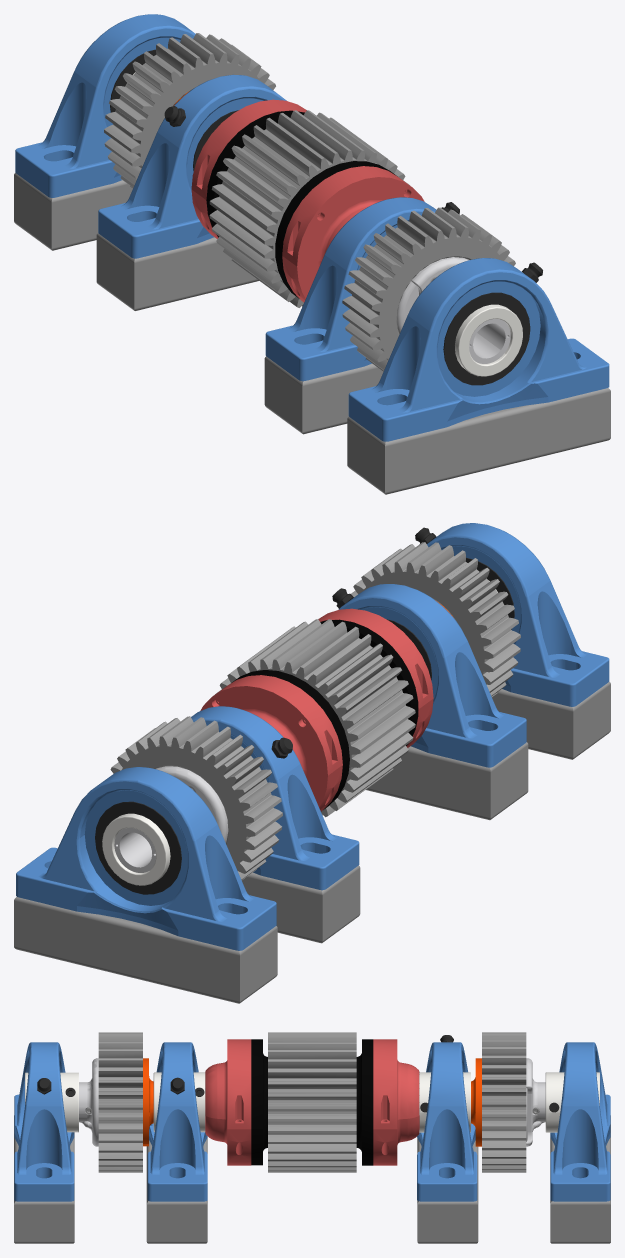
Rendered from geared-module.e113c582.glb.
The picture shows the model from 3 angles, top to bottom: view 1: azimuth 30°, elevation 25°; view 2: azimuth 150°, elevation 25°; view 3: azimuth 270°, elevation 25°; orthographic projection. The views are drawn at different scales.
Visible parts, largest first — view 1: Casing (2) (×4), Outer Gear (×2), object 243, Middle Gear, Nut Side (×2), object 245, object 244, object 246, cycloid_housing (×2), object 87, black (1), Rotation (1) (+1 smaller); view 2: Casing (2) (×4), Outer Gear (×2), object 246, Middle Gear, Nut Side (×2), object 244, object 245, object 243, cycloid_housing (×2), object 218, black (1), Rotation (1) (+1 smaller); view 3: Casing (2) (×4), Outer Gear (×2), Middle Gear, Nut Side (×2), cycloid_housing (×2), Rotation (1) (×4), object 244, object 245, object 243, Screw Side (×2), object 246, red casing end gear (inner) (×2) (+2 smaller).
Part boxes in pixels (left/top/right/bottom): Casing (2) (×4): left=15, top=14, right=609, bottom=441; Outer Gear (×2): left=104, top=33, right=515, bottom=371; object 243: left=347, top=388, right=610, bottom=494; Middle Gear: left=209, top=110, right=409, bottom=307; Nut Side (×2): left=191, top=99, right=424, bottom=266; object 245: left=96, top=233, right=258, bottom=310; object 244: left=264, top=356, right=383, bottom=434; object 246: left=14, top=173, right=132, bottom=250; cycloid_housing (×2): left=206, top=110, right=397, bottom=298; object 87: left=397, top=257, right=510, bottom=363; black (1): left=443, top=292, right=530, bottom=385; Rotation (1): left=455, top=304, right=522, bottom=376; Casing (2) (×4): left=16, top=523, right=609, bottom=950; Outer Gear (×2): left=110, top=542, right=520, bottom=880; object 246: left=14, top=897, right=277, bottom=1003; Middle Gear: left=215, top=619, right=415, bottom=817; Nut Side (×2): left=200, top=608, right=433, bottom=775; object 244: left=366, top=742, right=528, bottom=820; object 245: left=242, top=865, right=360, bottom=943; object 243: left=492, top=681, right=610, bottom=759; cycloid_housing (×2): left=232, top=619, right=418, bottom=809; object 218: left=114, top=766, right=228, bottom=872; black (1): left=95, top=801, right=181, bottom=894; Rotation (1): left=102, top=813, right=170, bottom=885; Casing (2) (×4): left=14, top=1042, right=610, bottom=1201; Outer Gear (×2): left=98, top=1032, right=526, bottom=1172; Middle Gear: left=268, top=1032, right=356, bottom=1172; Nut Side (×2): left=205, top=1039, right=419, bottom=1129; cycloid_housing (×2): left=251, top=1039, right=373, bottom=1165; Rotation (1) (×4): left=25, top=1072, right=599, bottom=1132; object 244: left=146, top=1138, right=207, bottom=1243; object 245: left=417, top=1138, right=478, bottom=1243; object 243: left=14, top=1115, right=74, bottom=1243; Screw Side (×2): left=205, top=1115, right=419, bottom=1165; object 246: left=550, top=1115, right=610, bottom=1243; red casing end gear (inner) (×2): left=143, top=1058, right=481, bottom=1146.
Bounding box in the file's own units: 167 × 141 × 472.
